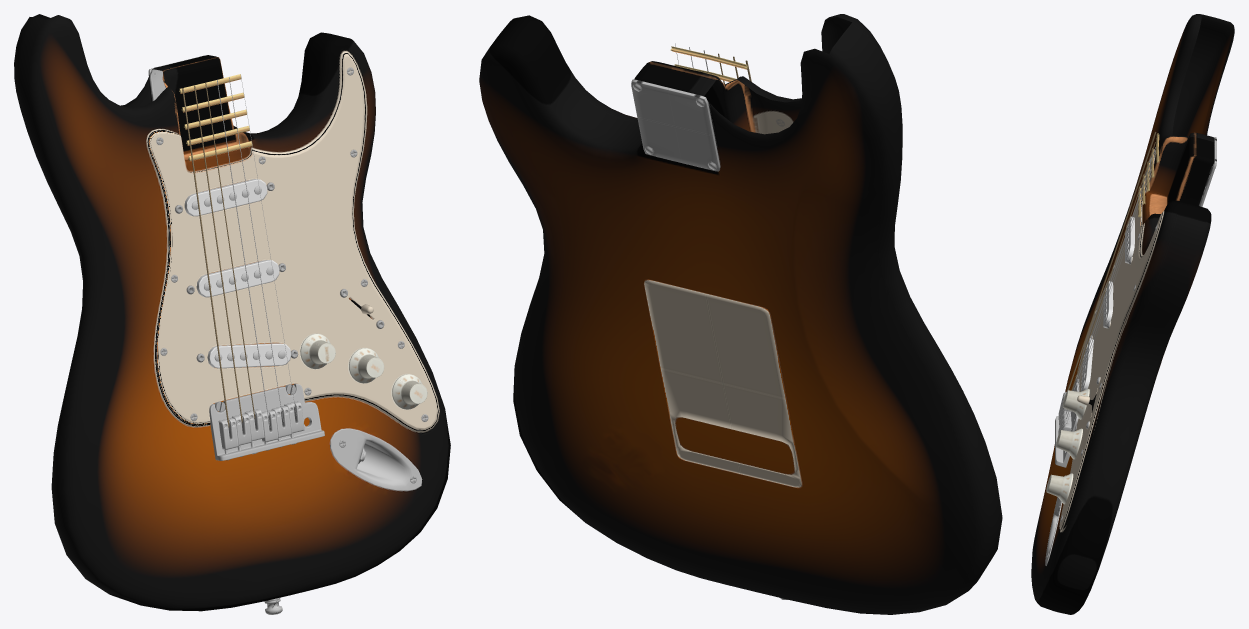
Rendered from s-style-body.glb.
The picture shows the model from 3 angles, left to right: view 1: azimuth 30°, elevation 25°; view 2: azimuth 150°, elevation 25°; view 3: azimuth 270°, elevation 25°; orthographic projection. The views are drawn at different scales.
Parts seen in each view (by area): view 1: s-style-body; view 2: s-style-body; view 3: s-style-body.
Boxes of the visible parts, box(x1,y1,x2,y2) form: s-style-body: box(14, 14, 450, 614); s-style-body: box(479, 14, 1002, 614); s-style-body: box(1031, 14, 1234, 614).
Size of the model in its own units: 0.4543 by 0.6465 by 0.2336.
3 materials, 1 textured.
